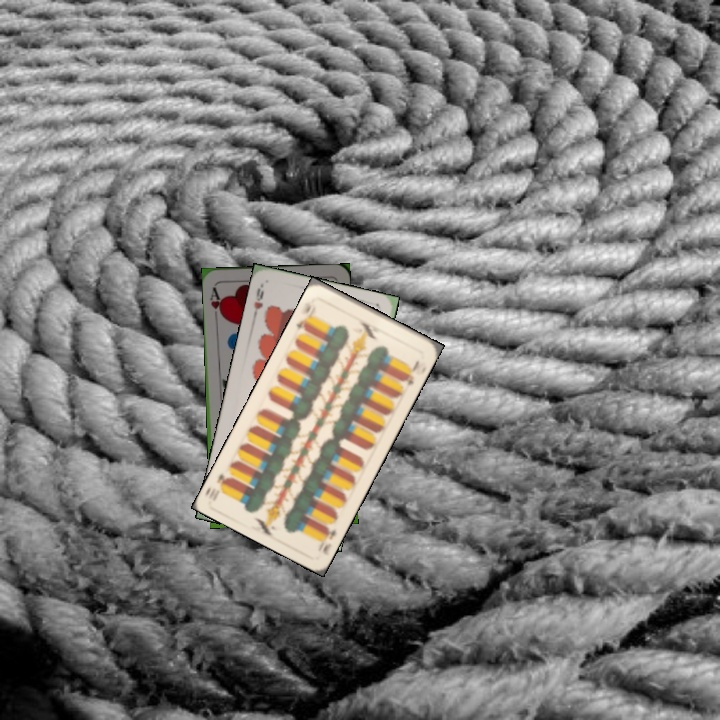E10: (292, 294, 319, 334), (319, 522, 339, 557)
H9: (249, 281, 266, 321)
HA: (206, 283, 226, 323)
